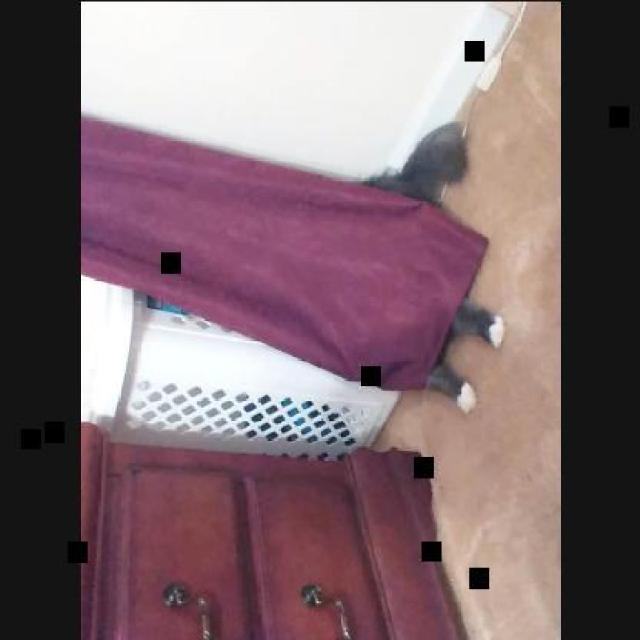unauthorized: (358, 118, 504, 416)
